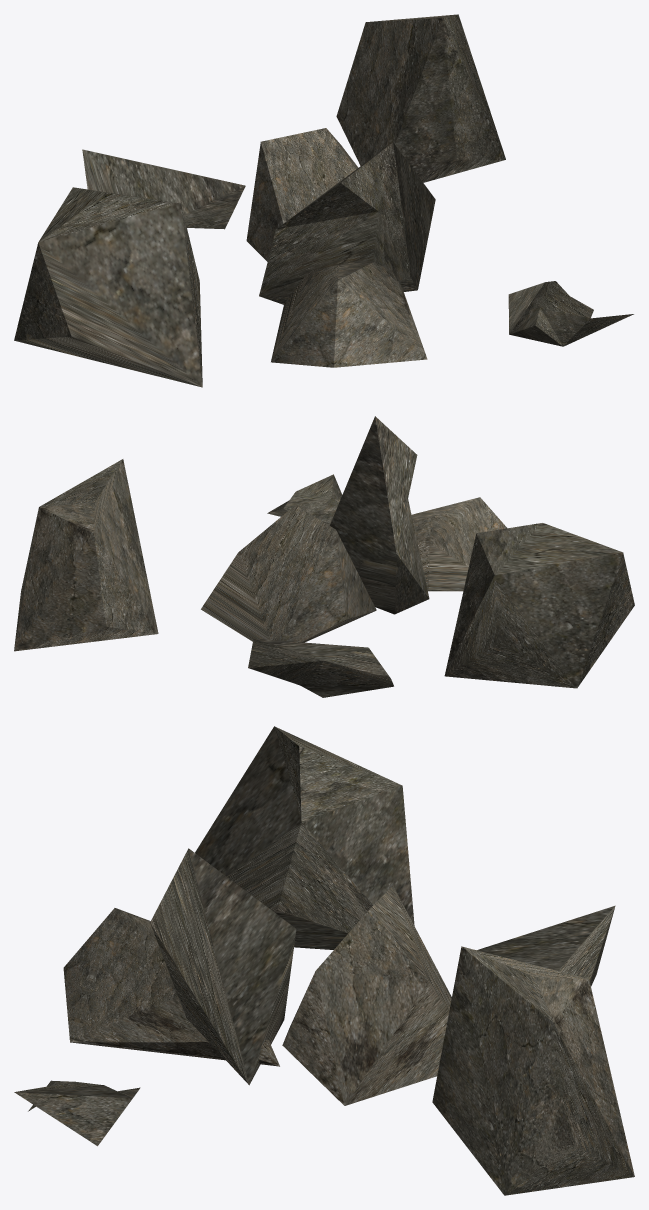
Rendered from mm9_deco_stonedebris04ls.glb.
3 views of the same model, one above another, from view 1: azimuth 30°, elevation 25°; view 2: azimuth 150°, elevation 25°; view 3: azimuth 270°, elevation 25° (orthographic). The views are drawn at different scales.
Parts seen in each view (by area): view 1: Stonedebris04ls; view 2: Stonedebris04ls; view 3: Stonedebris04ls.
Part boxes in pixels (left/top/right/bottom): Stonedebris04ls: left=14, top=14, right=633, bottom=387; Stonedebris04ls: left=14, top=416, right=634, bottom=697; Stonedebris04ls: left=14, top=726, right=634, bottom=1195.
Bounding box in the file's own units: 2.43 × 0.7355 × 1.99.
1 material, 1 textured.
